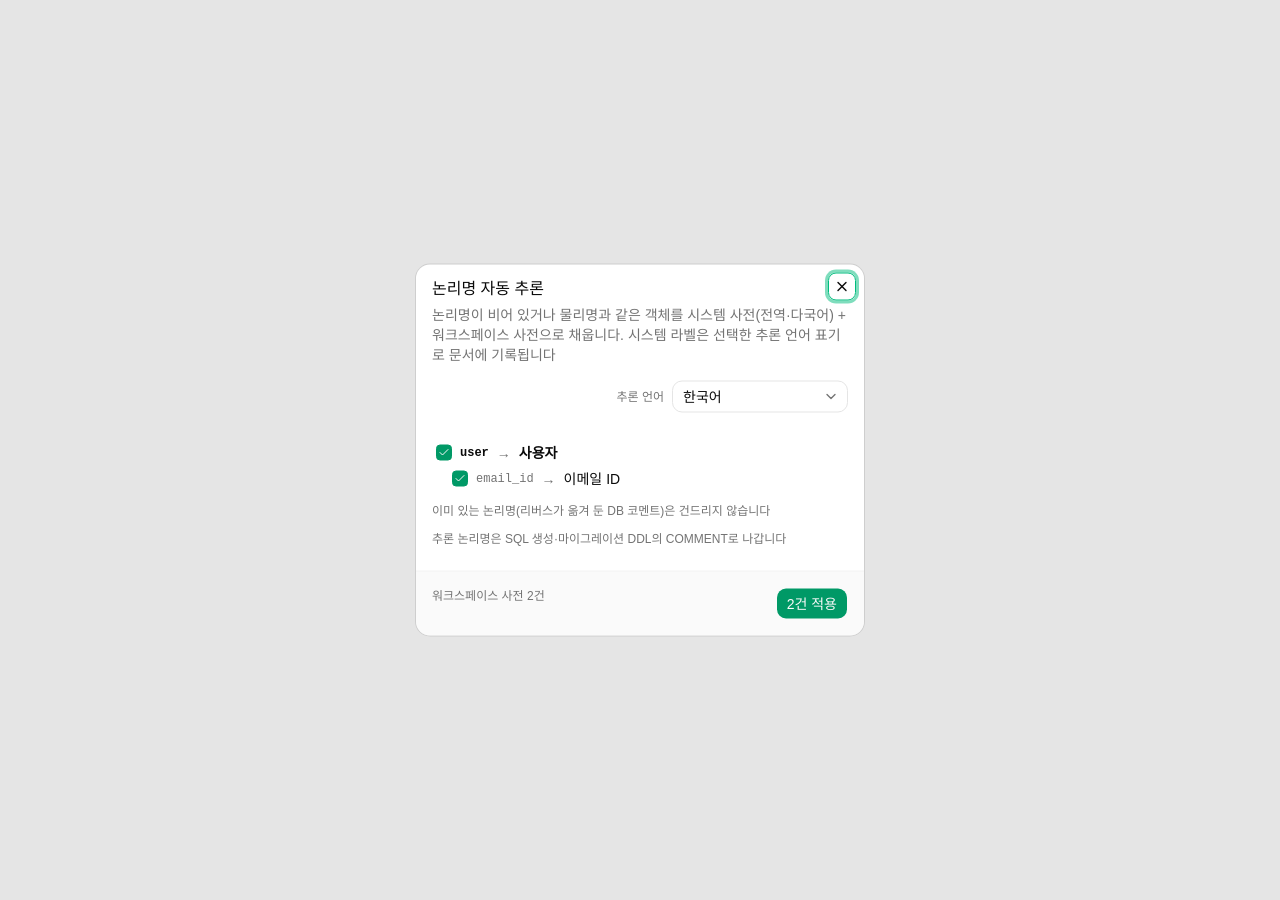
LogicalNamesDialog — 미리보기·적용 › 추론 언어를 일본어로 바꾸면 시스템 라벨이 일본어 표기로 다시 계산된다
Expected: the text "이메일 ID" is shown, [564,470,620,486]
Click the dropdown named "추론 언어": click(760, 396) [672,380,848,412]
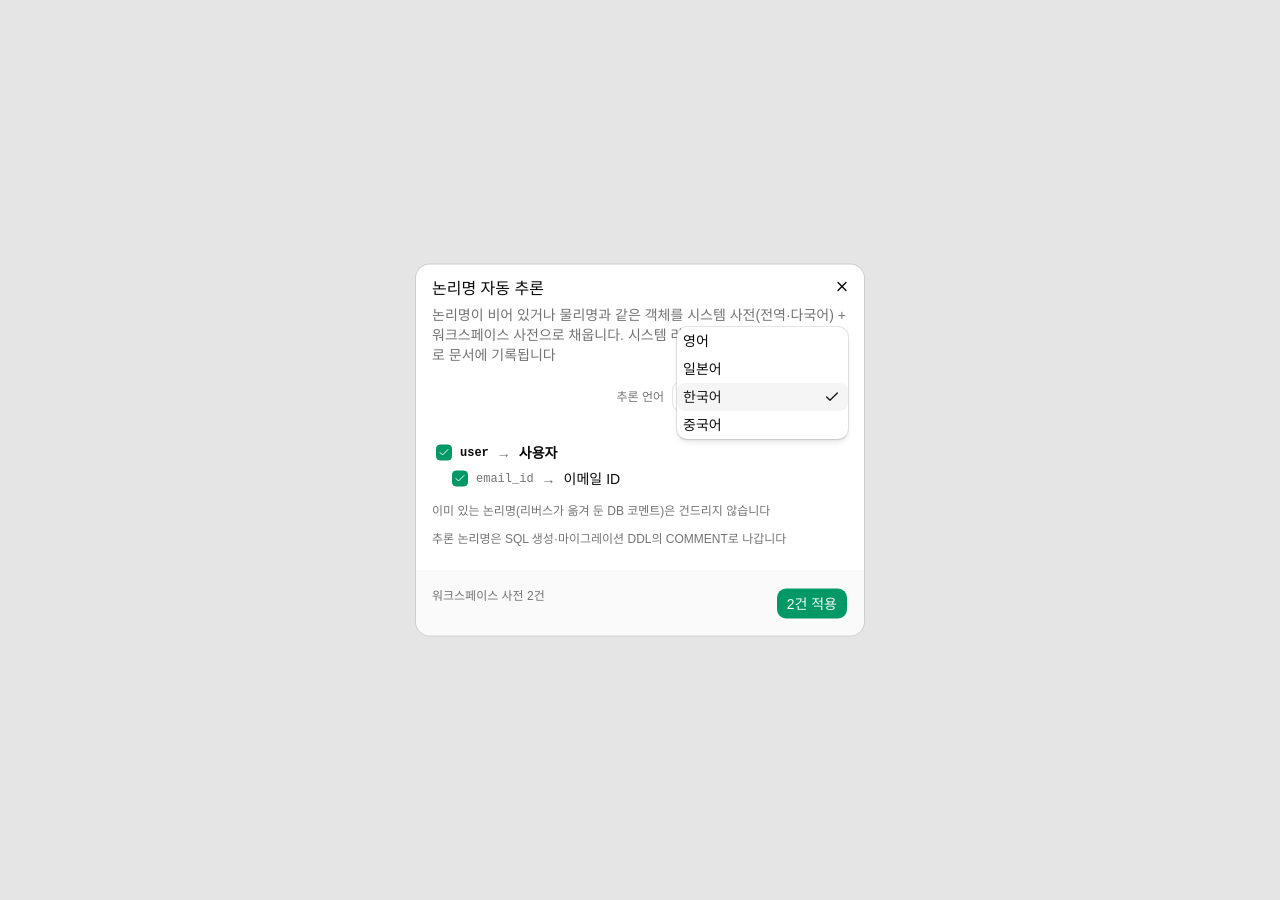
Click the option "일본어": click(702, 368) [683,360,722,376]
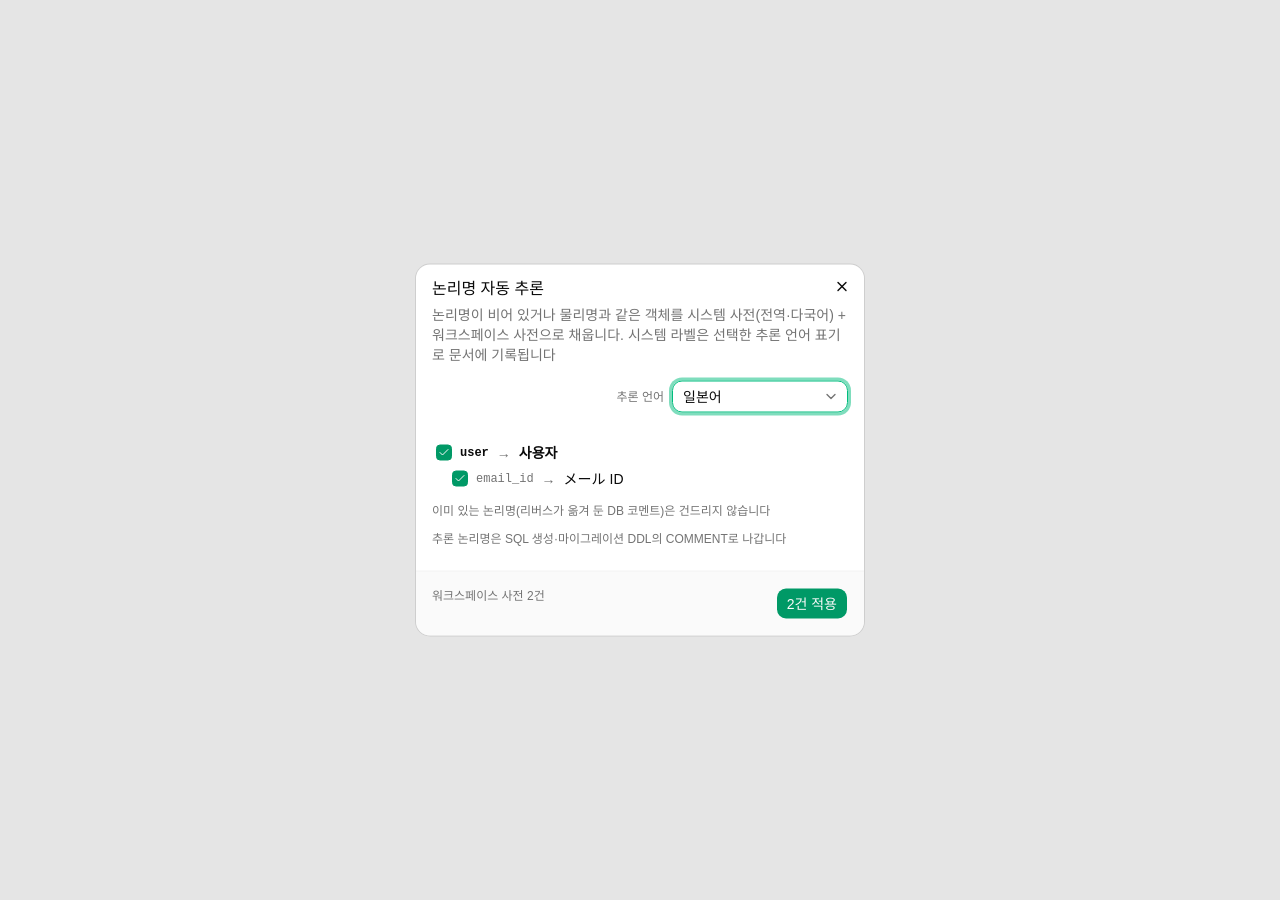
Expected: the text "사용자" is shown, [519,444,557,460]
Result: the text "メール ID" is shown at [564,470,624,486]
Result: the text "이메일 ID" is gone
